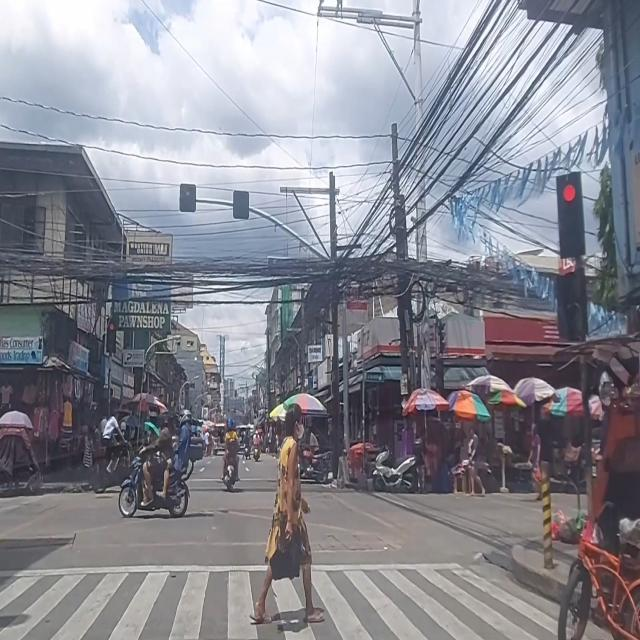bike: (556, 493, 640, 640)
motorcycle: (120, 410, 204, 520), (371, 439, 417, 494), (89, 438, 134, 493), (220, 417, 240, 492), (300, 446, 332, 486), (252, 430, 262, 462)
tricycle: (0, 409, 44, 496)
